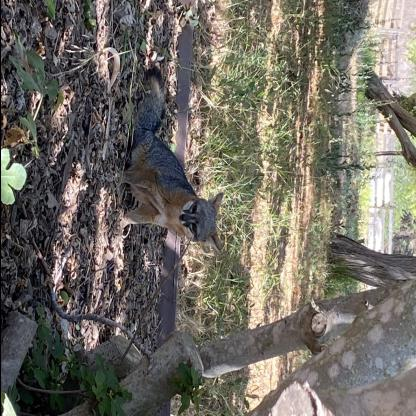zorro: (113, 66, 227, 259)
